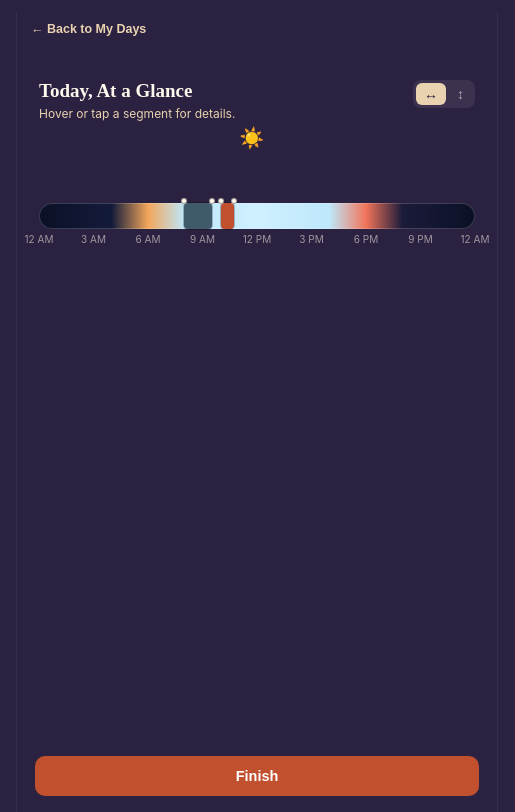
Test case: ChronoBarScreen › in replay mode, Finish skips straight to a read-only summary (no Save)
Click the button "Finish". click: (257, 776)
box: [35, 756, 479, 796]
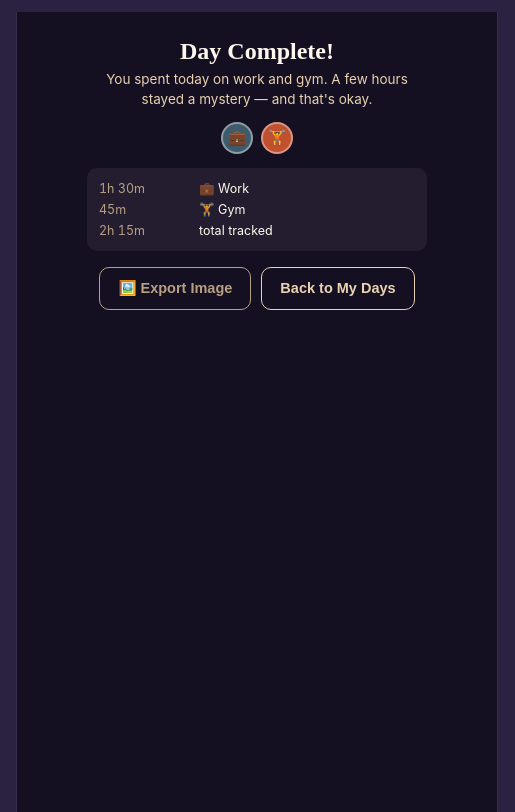
expect the button "Back to My Days" is shown: met, box [261, 266, 415, 310]
expect the heading "Day Complete!" is shown: met, box [180, 38, 334, 65]
